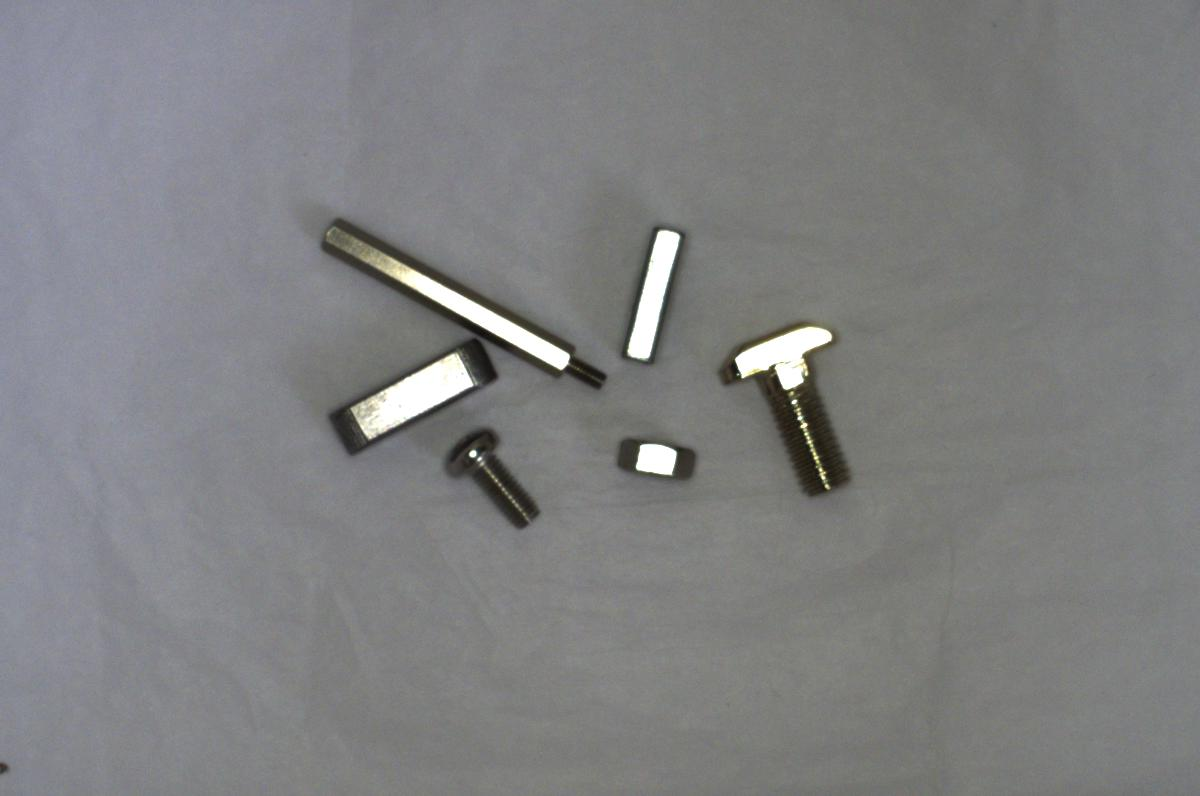Hexagon nut: (612, 418, 702, 493)
Hexagonal steel column: (318, 215, 613, 389)
Keybar: (330, 333, 504, 450)
Rectangular nut: (618, 213, 684, 365)
Round head screw: (437, 426, 540, 532)
T-shaped screw: (710, 315, 861, 505)
